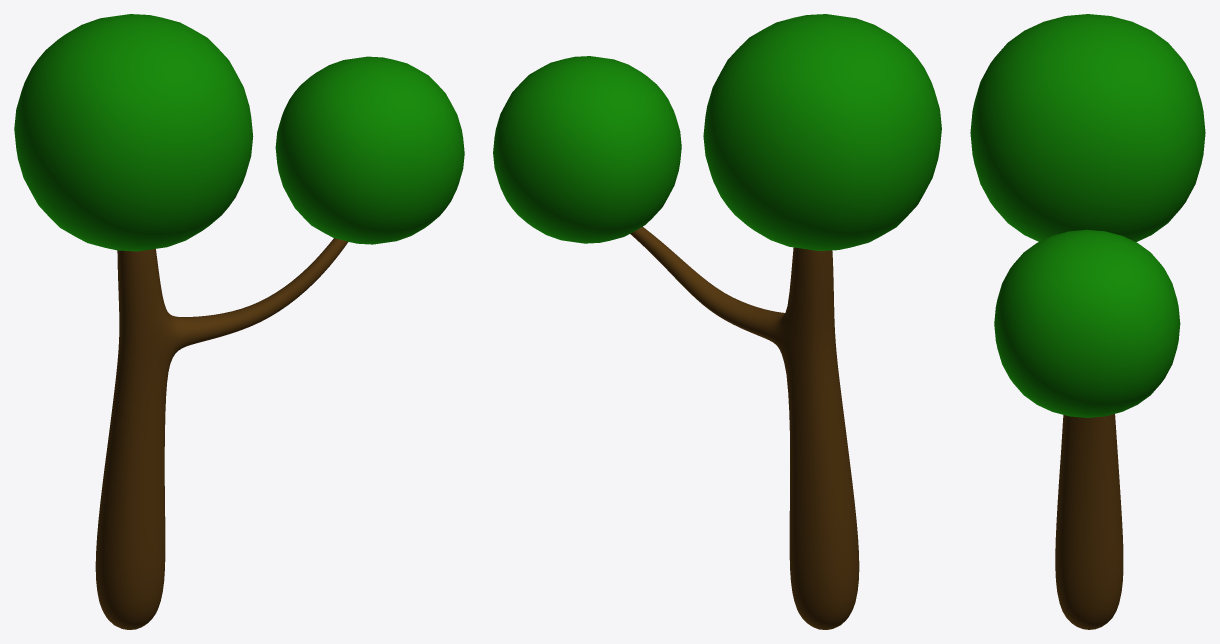
Rendered from UWP_Tree.fbx.
3 views of the same model, side by side, from view 1: azimuth 30°, elevation 25°; view 2: azimuth 150°, elevation 25°; view 3: azimuth 270°, elevation 25° (orthographic).
Parts seen in each view (by area): view 1: Cube.002; view 2: Cube.002; view 3: Cube.002.
Part boxes in pixels (x1=…): Cube.002: x1=14, y1=14, x2=464, y2=629; Cube.002: x1=493, y1=14, x2=941, y2=629; Cube.002: x1=970, y1=14, x2=1205, y2=629.
Bounding box in the file's own units: 484 × 665 × 235.
